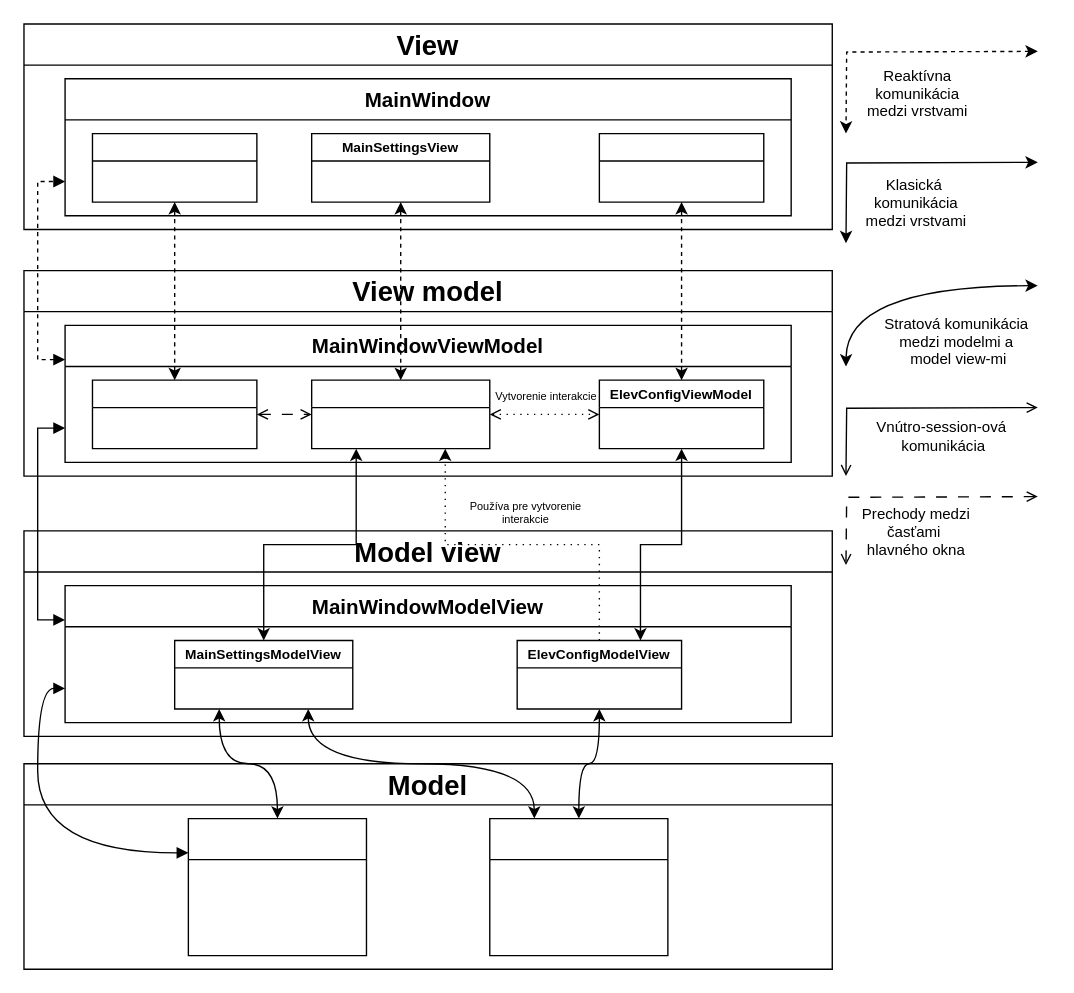
Image size: 1074x993. Some labels were removed from this diagram. The centre of each missing label's shape, as x and y in pixels:
"ElevConfigView" goes at (681,167).
"ElevDataMan" goes at (578,886).
"MainMenuView" goes at (174,167).
"MainMenuViewModel" goes at (174,414).
"MainSettingsViewModel" goes at (400,414).
"ParamsMan" goes at (276,886).
